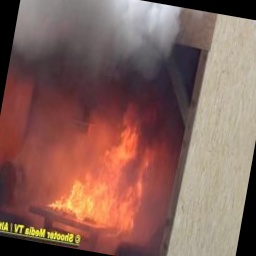fire: (28, 98, 171, 240)
smoke: (12, 0, 180, 88)
